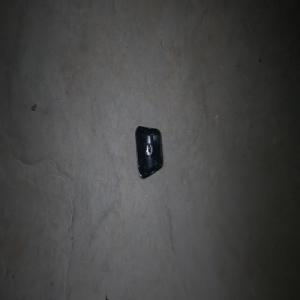LuggagePart: (134, 125, 163, 180)
